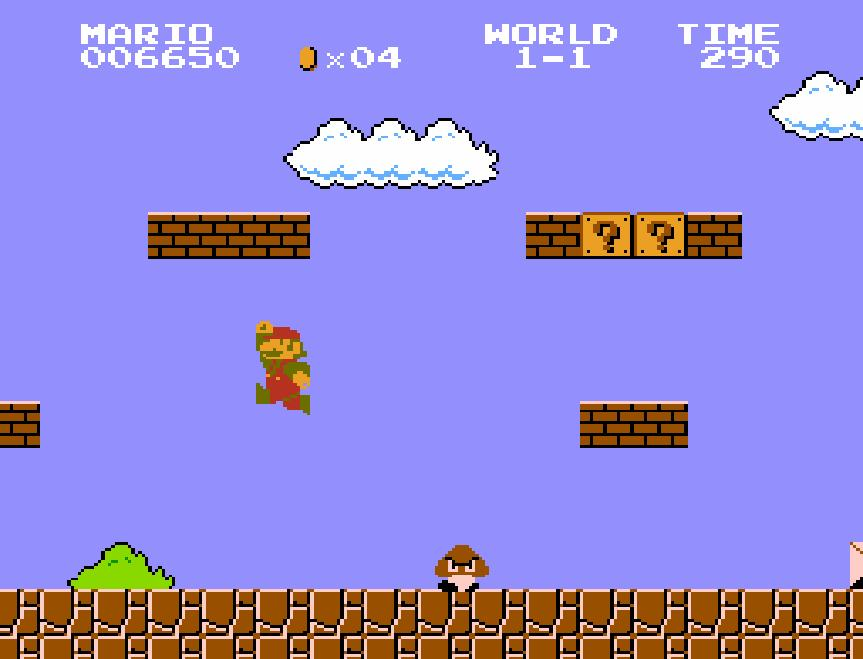big_mario: (254, 319, 312, 417)
